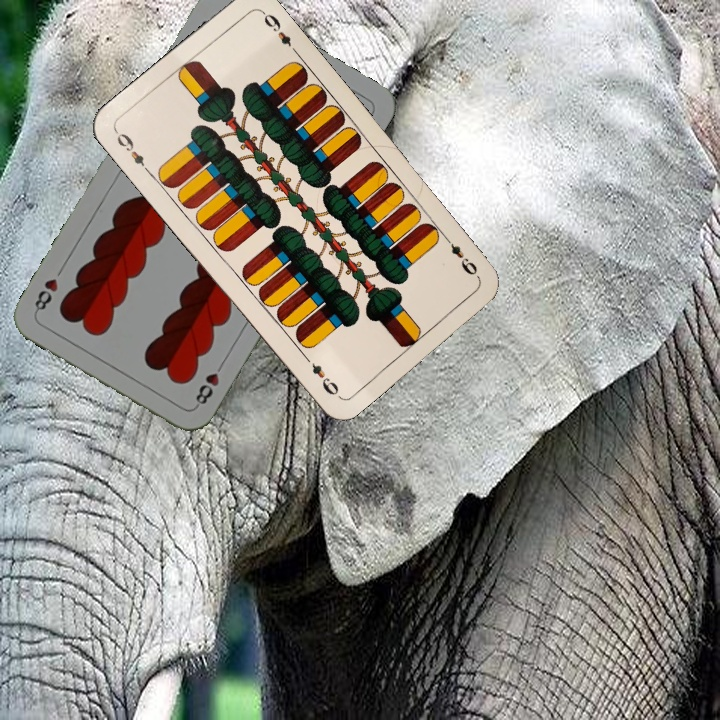E9: (440, 232, 483, 281), (111, 127, 153, 177)
H8: (191, 357, 227, 410)
